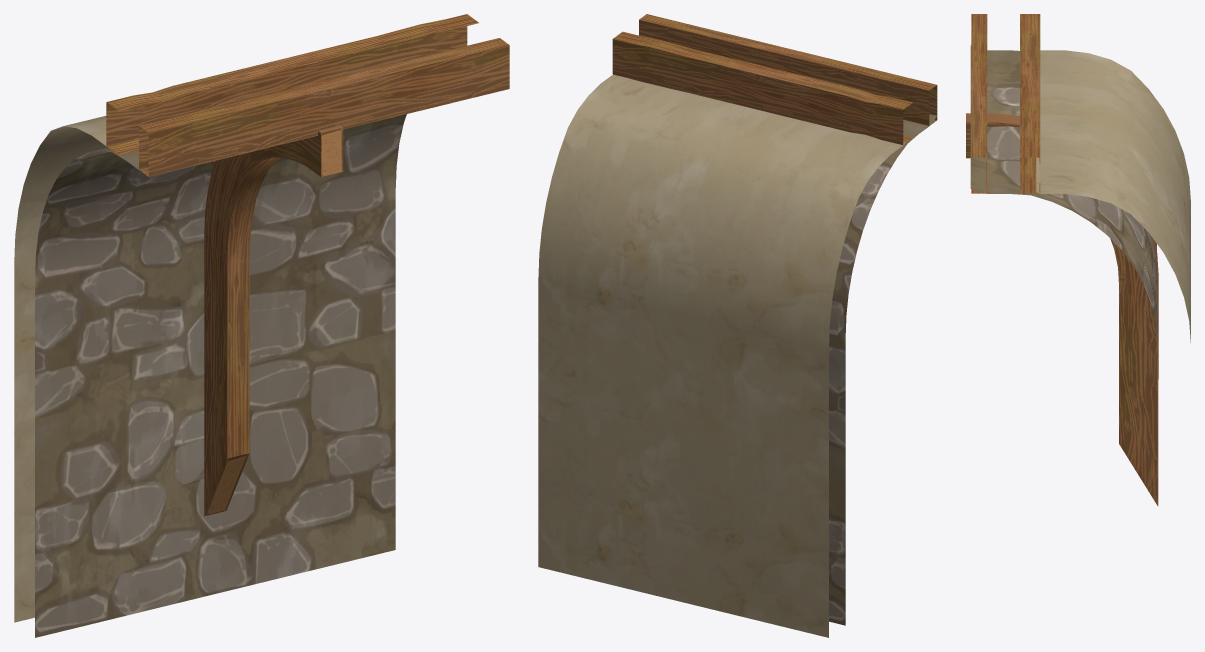
File: Overhang_UnevenBrick_Short.glb
3 views of the same model, side by side, from view 1: azimuth 30°, elevation 25°; view 2: azimuth 150°, elevation 25°; view 3: azimuth 270°, elevation 25° (orthographic). The views are drawn at different scales.
Visible parts, largest first — view 1: Overhang_UnevenBrick_Short; view 2: Overhang_UnevenBrick_Short; view 3: Overhang_UnevenBrick_Short.
Part boxes in pixels (bbox=[...]): Overhang_UnevenBrick_Short: bbox=[14, 14, 509, 637]; Overhang_UnevenBrick_Short: bbox=[538, 14, 937, 637]; Overhang_UnevenBrick_Short: bbox=[966, 14, 1190, 505].
Bounding box in the file's own units: 2 × 3.12 × 1.32.
3 materials, 3 textured.
